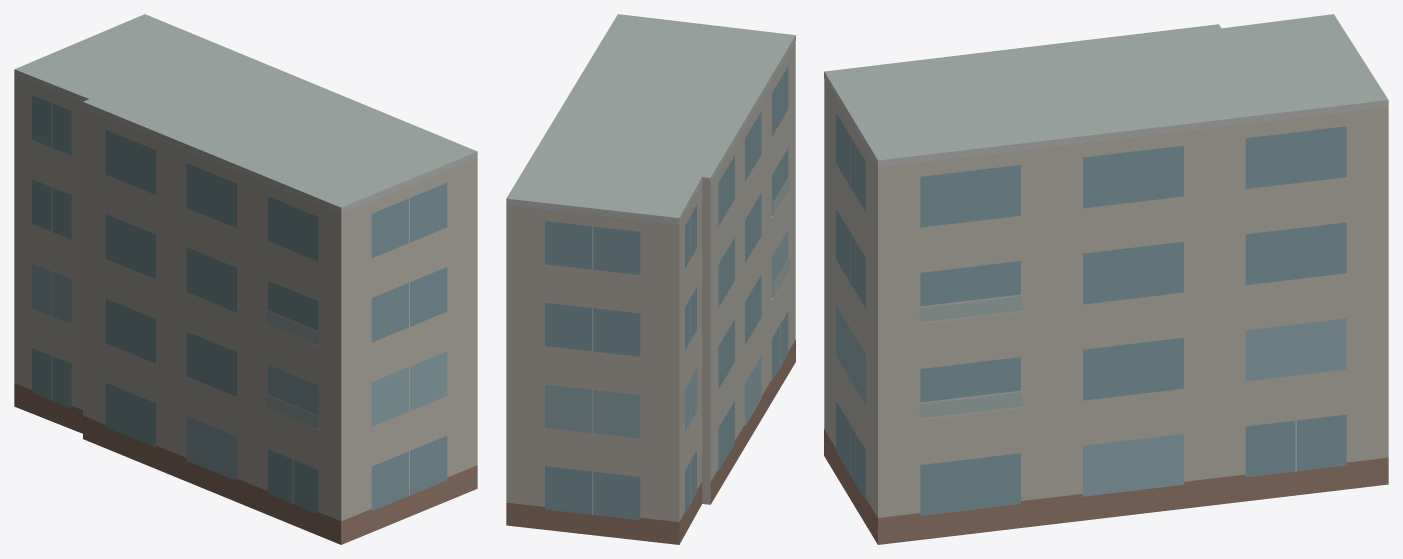
Rendered from survey-upis-32581150.glb.
3 views of the same model, side by side, from view 1: azimuth 30°, elevation 25°; view 2: azimuth 150°, elevation 25°; view 3: azimuth 270°, elevation 25° (orthographic). The views are drawn at different scales.
Parts seen in each view (by area): view 1: survey-upis-32581150.tmp; view 2: survey-upis-32581150.tmp; view 3: survey-upis-32581150.tmp.
Boxes of the visible parts, <box> form: survey-upis-32581150.tmp: <box>14,14,477,544</box>; survey-upis-32581150.tmp: <box>506,14,795,544</box>; survey-upis-32581150.tmp: <box>824,14,1388,544</box>.
Size of the model in its own units: 10.47 by 12.8 by 17.04.
